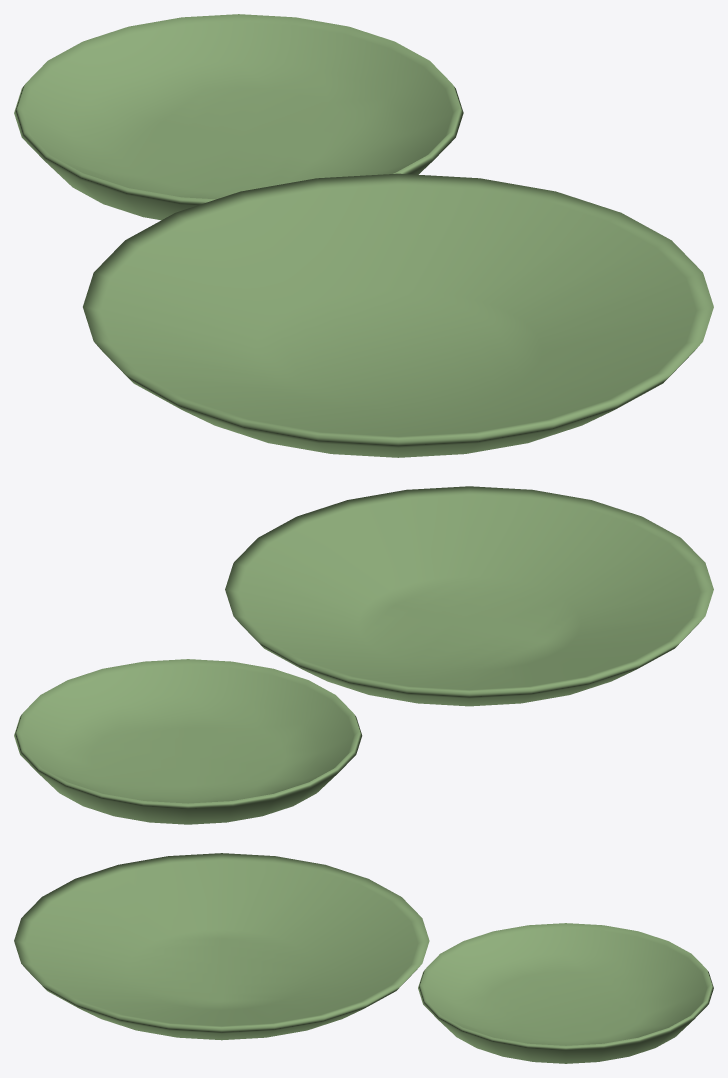
Rendered from Jar_Break_05B_Lod1.fbx.
The picture shows the model from 3 angles, top to bottom: view 1: azimuth 30°, elevation 25°; view 2: azimuth 150°, elevation 25°; view 3: azimuth 270°, elevation 25°; orthographic projection. The views are drawn at different scales.
Parts seen in each view (by area): view 1: Jar_Break_05B_Lod1; view 2: Jar_Break_05B_Lod1; view 3: Jar_Break_05B_Lod1.
Boxes of the visible parts, <box> form: Jar_Break_05B_Lod1: <box>14,14,713,457</box>; Jar_Break_05B_Lod1: <box>14,486,713,824</box>; Jar_Break_05B_Lod1: <box>14,853,713,1063</box>.
Bounding box in the file's own units: 34.93 × 4.71 × 56.44.
